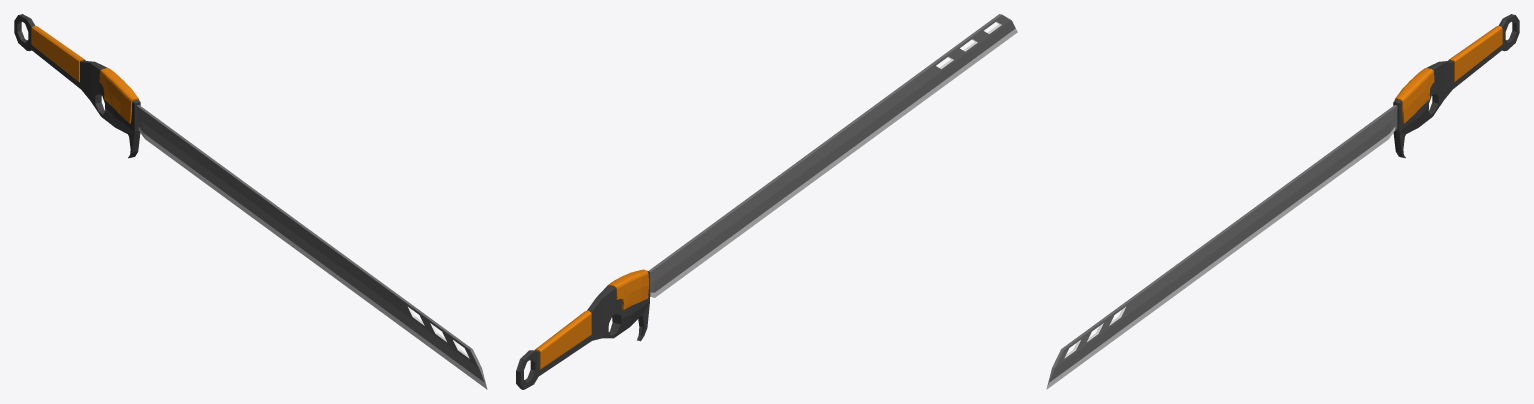
The model's file is espada.fbx.
3 renders of one model, left to right at view 1: azimuth 30°, elevation 25°; view 2: azimuth 150°, elevation 25°; view 3: azimuth 330°, elevation 25°, orthographic. The views are drawn at different scales.
Parts seen in each view (by area): view 1: Cube, Cube.001, Cube.002, Cube.004; view 2: Cube, Cube.001, Cube.002, Cube.004; view 3: Cube, Cube.001, Cube.002, Cube.004.
Part boxes in pixels (<box>): Cube: <box>136,105,485,382</box>; Cube.001: <box>14,14,140,158</box>; Cube.002: <box>31,25,138,123</box>; Cube.004: <box>144,133,487,389</box>; Cube: <box>648,14,1015,297</box>; Cube.001: <box>516,270,649,389</box>; Cube.002: <box>534,269,649,369</box>; Cube.004: <box>654,28,1017,297</box>; Cube: <box>1048,105,1397,382</box>; Cube.001: <box>1393,14,1519,158</box>; Cube.002: <box>1395,25,1502,123</box>; Cube.004: <box>1046,133,1389,389</box>.
Bounding box in the file's own units: 9.85 × 52.78 × 635.
